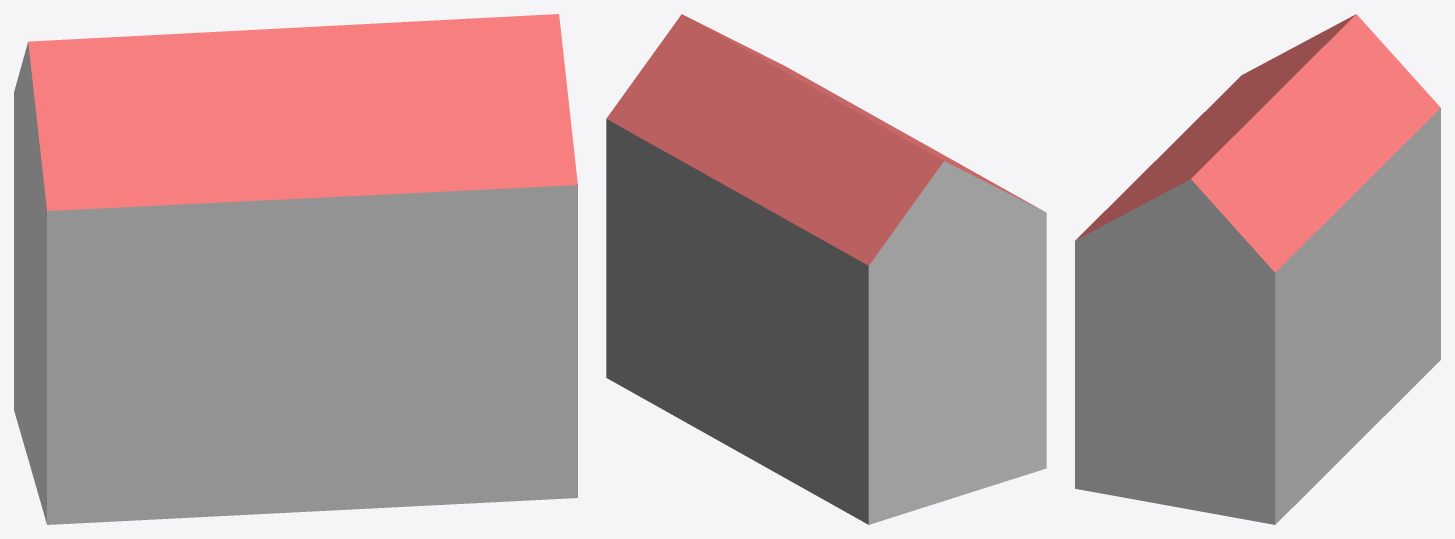
Rendered from DEBY_LOD2_4907017.gltf.
3 views of the same model, side by side, from view 1: azimuth 30°, elevation 25°; view 2: azimuth 150°, elevation 25°; view 3: azimuth 270°, elevation 25° (orthographic). The views are drawn at different scales.
Parts seen in each view (by area): view 1: Z_UP; view 2: Z_UP; view 3: Z_UP.
Boxes of the visible parts, bbox=[...] form: Z_UP: bbox=[14, 14, 577, 524]; Z_UP: bbox=[606, 14, 1046, 524]; Z_UP: bbox=[1075, 14, 1440, 524].
Size of the model in its own units: 26.57 by 20.4 by 20.45.
